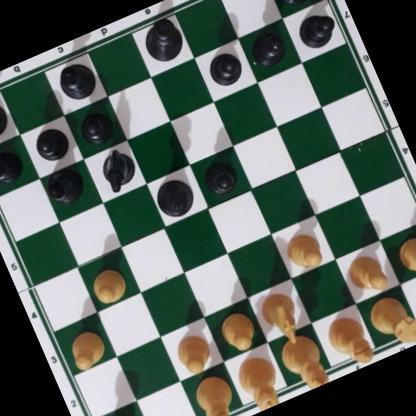black-bishop: (51, 55, 101, 105), (39, 163, 90, 211)
black-king: (139, 13, 189, 67)
black-knight: (94, 143, 139, 192)
black-pawn: (292, 6, 340, 53), (196, 154, 242, 201), (202, 45, 246, 90), (245, 26, 289, 70), (29, 121, 72, 166), (74, 104, 116, 148), (0, 144, 25, 187)
black-queen: (150, 173, 198, 222)
black-rook: (0, 90, 13, 148), (267, 0, 325, 8)
white-bishop: (321, 310, 375, 372), (188, 369, 240, 416)
white-king: (274, 329, 331, 395)
white-knight: (254, 285, 310, 350)
white-pawn: (342, 247, 392, 299), (170, 328, 217, 378), (84, 261, 132, 309), (63, 326, 110, 374), (279, 227, 326, 275), (214, 307, 259, 355), (392, 229, 416, 278)
white-queen: (230, 350, 288, 416)
white-rook: (365, 291, 416, 355), (92, 409, 150, 416)
